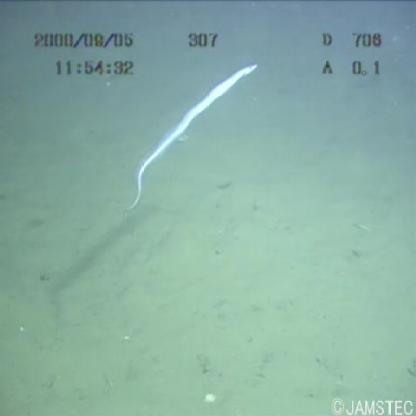Bio: (110, 51, 266, 240)
